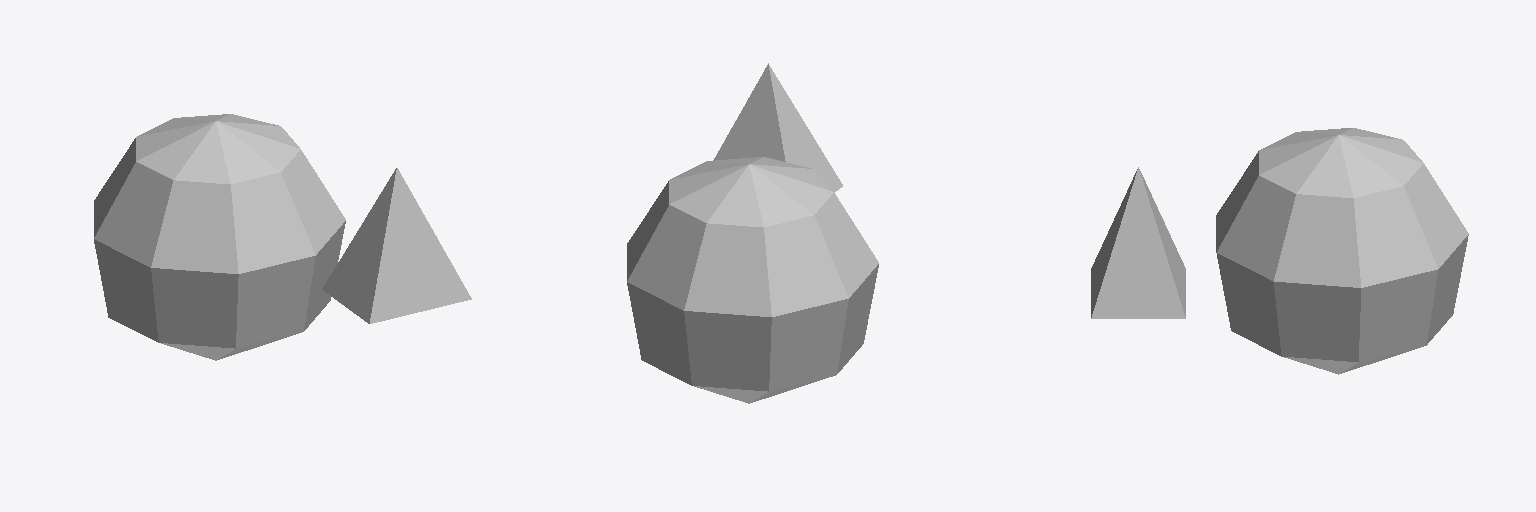
Rendered from dwa.obj.
3 renders of one model, left to right at view 1: azimuth 30°, elevation 25°; view 2: azimuth 150°, elevation 25°; view 3: azimuth 270°, elevation 25°, orthographic.
Visible parts, largest first — view 1: Sphere001, Pyramid001; view 2: Sphere001, Pyramid001; view 3: Sphere001, Pyramid001.
Boxes of the visible parts, <box> form: Sphere001: <box>94,114,345,360</box>; Pyramid001: <box>322,168,471,323</box>; Sphere001: <box>627,157,878,403</box>; Pyramid001: <box>713,63,842,192</box>; Sphere001: <box>1216,128,1468,374</box>; Pyramid001: <box>1091,167,1185,318</box>.
Size of the model in its own units: 61.66 by 59.94 by 82.95.